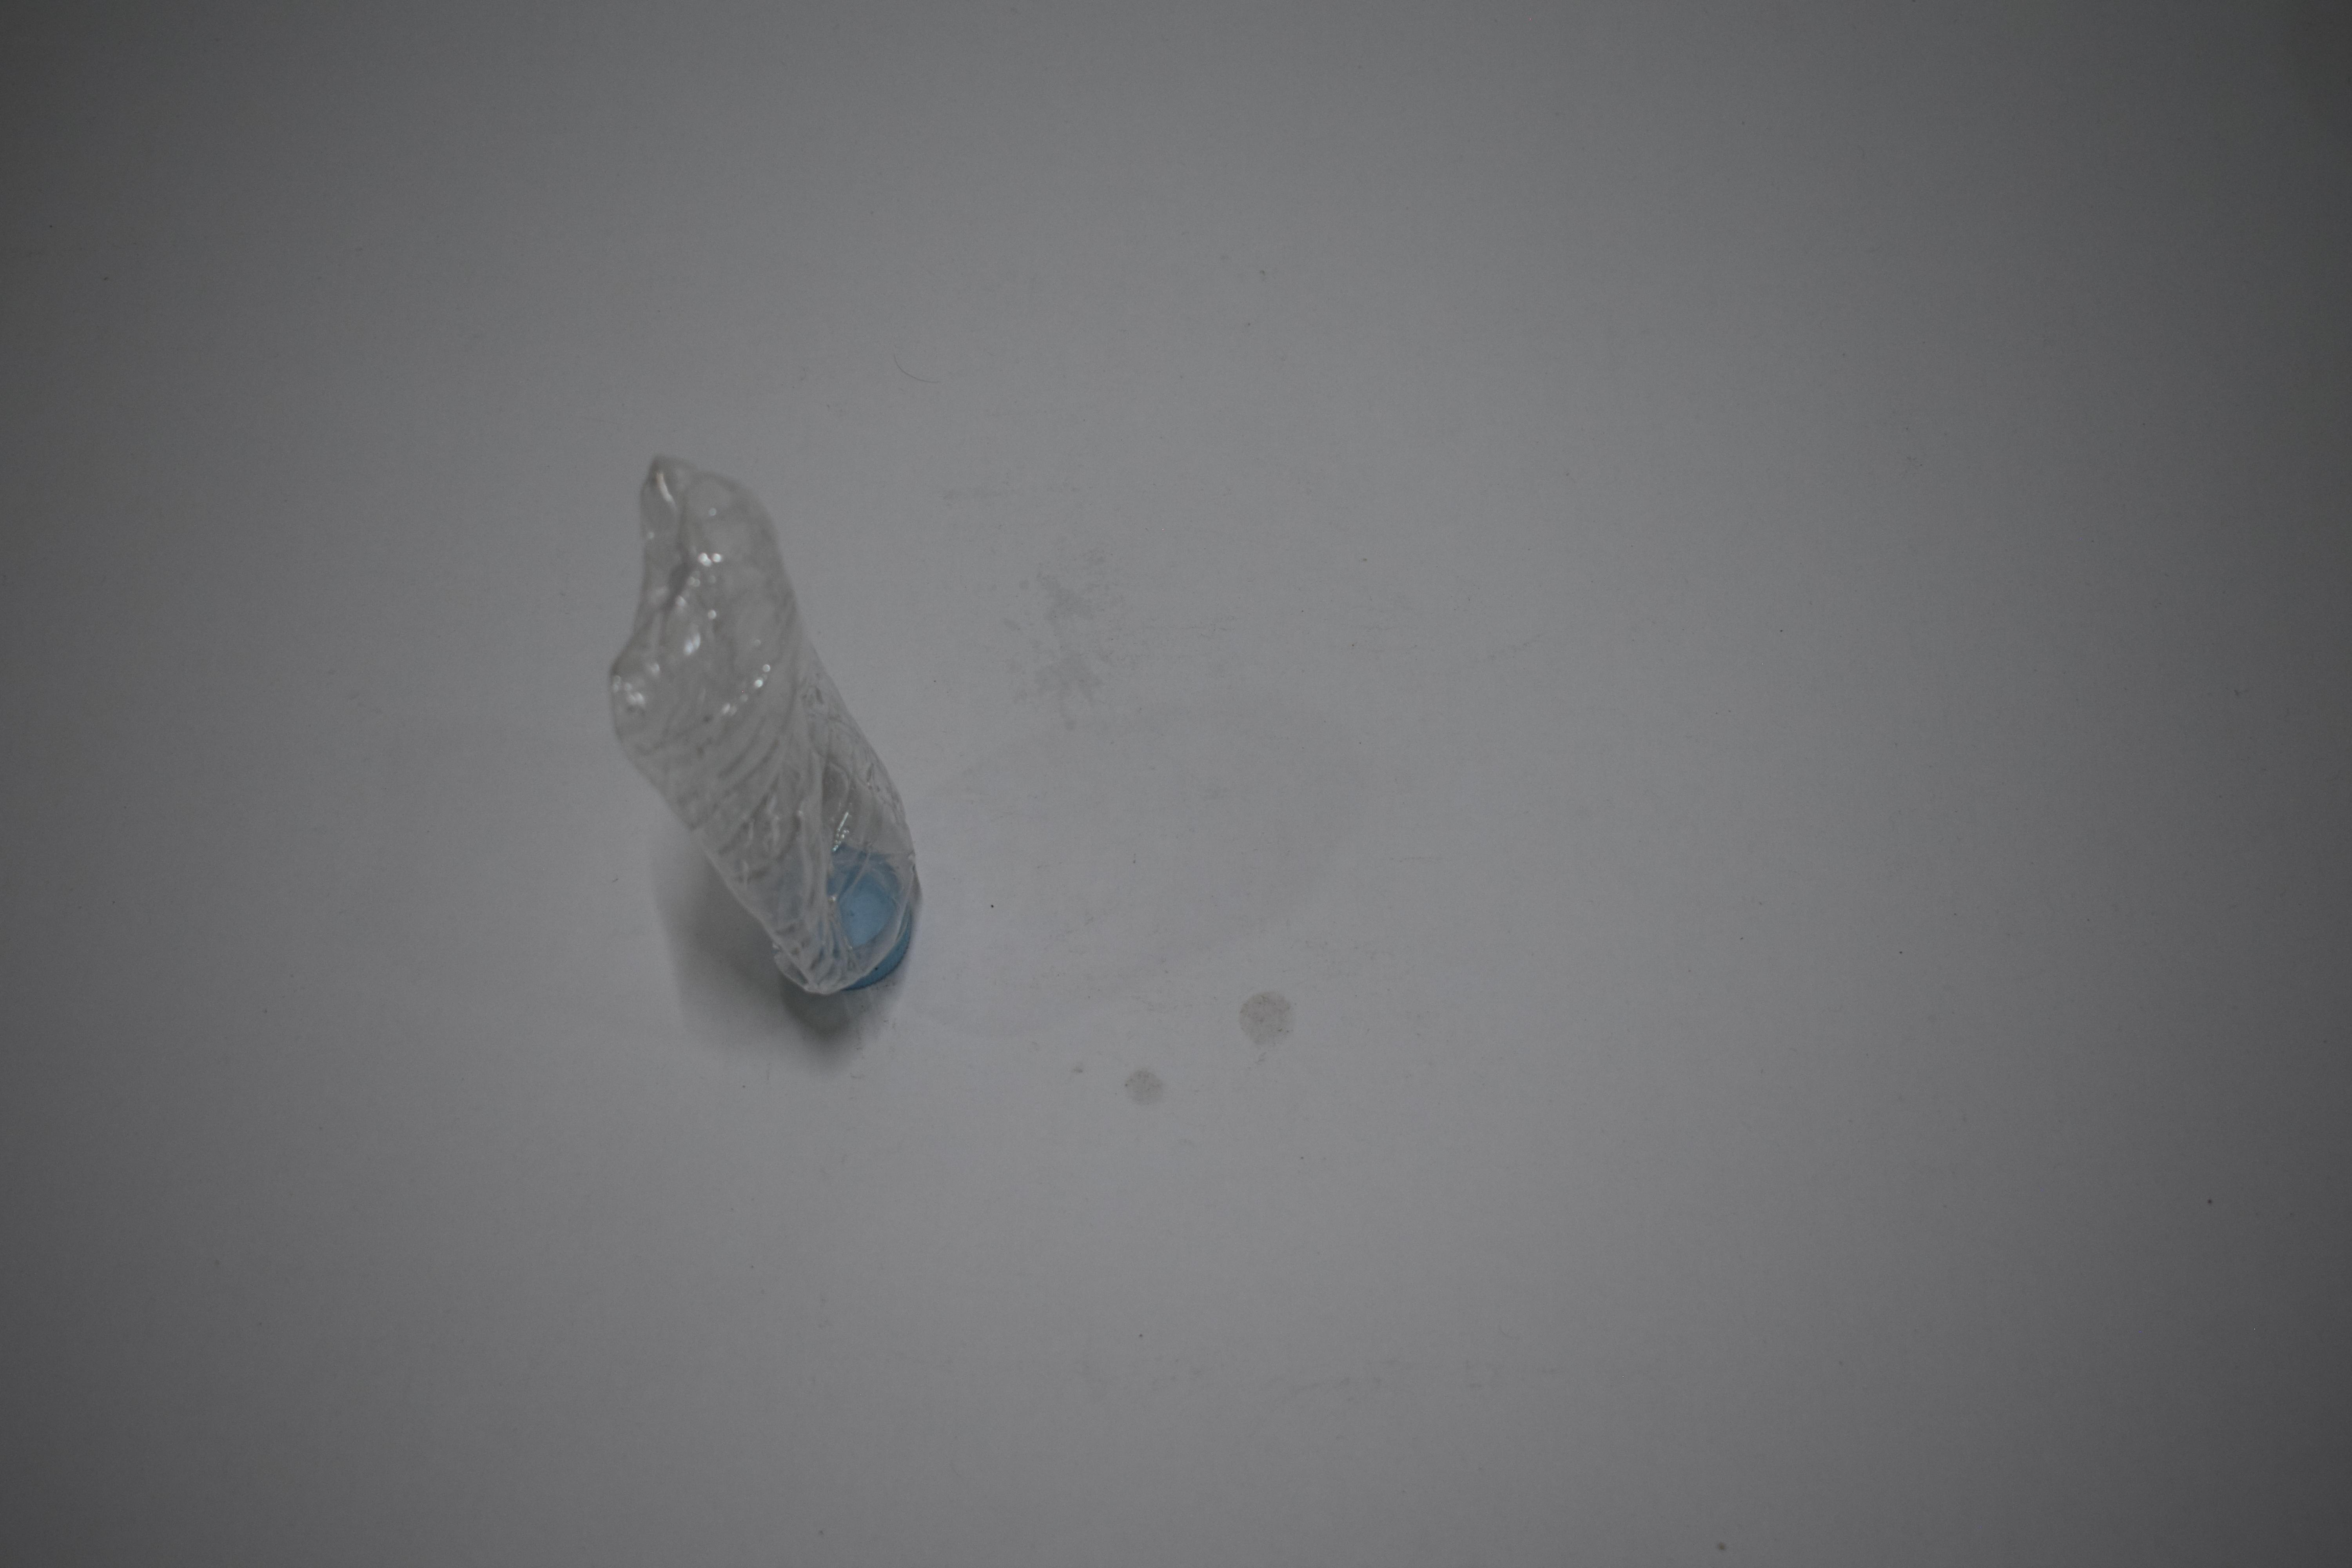bottle: (585, 439, 921, 1003)
